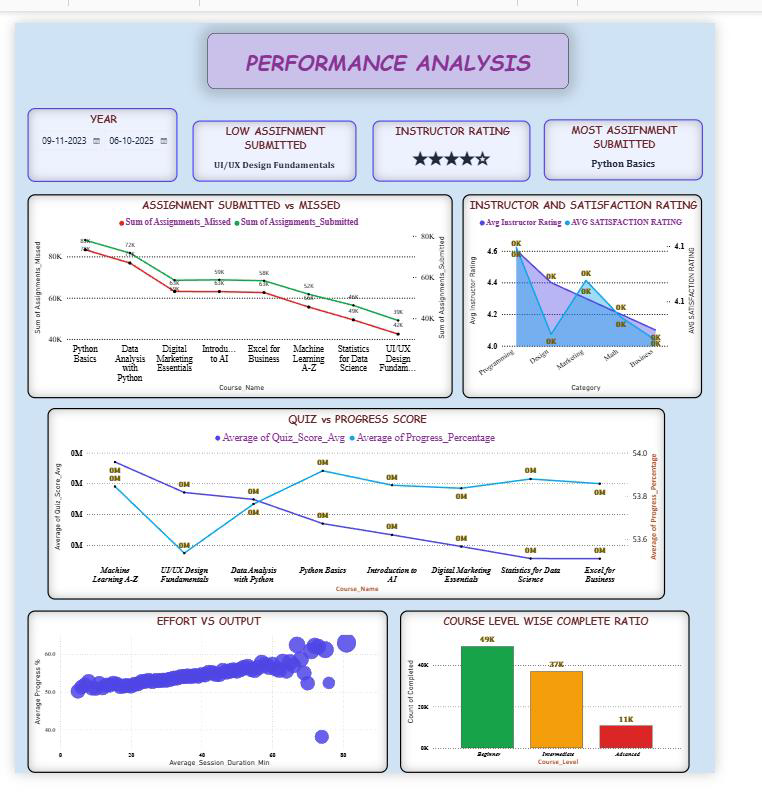

Layout of this report page (visuals, bound fields, positions):
{"tool":"powerbi","page":{"name":"DASHBOARD2","canvas":[1400,1500],"ordinal":1},"visuals":[{"type":"lineChart","title":"QUIZ  vs PROGRESS SCORE","fields":{"Category":["Course_Completion_Prediction.Course_Name"],"Y":["Avg(Course_Completion_Prediction.Quiz_Score_Avg)"],"Y2":["Avg(Course_Completion_Prediction.Progress_Percentage)"]},"box":[64.6,770.8,1235.4,383.3],"z":0},{"type":"clusteredColumnChart","title":"COURSE LEVEL WISE COMPLETE RATIO","fields":{"Category":["Course_Completion_Prediction.Course_Level"],"Y":["CountNonNull(Course_Completion_Prediction.Completed)"]},"box":[768.8,1175,579.2,325],"z":1000},{"type":"areaChart","title":"INSTRUCTOR AND SATISFACTION RATING","fields":{"Y":["Course_Completion_Prediction.Avg Instructor Rating"],"Y2":["Course_Completion_Prediction.AVG SATISFACTION RATING"],"Category":["Course_Completion_Prediction.Category"]},"box":[895.8,341.7,479.2,408.3],"z":2000},{"type":"lineChart","title":"ASSIGNMENT SUBMITTED vs MISSED","fields":{"Category":["Course_Completion_Prediction.Course_Name"],"Y":["Sum(Course_Completion_Prediction.Assignments_Missed)"],"Y2":["Sum(Course_Completion_Prediction.Assignments_Submitted)"]},"box":[25,341.7,850,408.3],"z":3000},{"type":"slicer","title":"YEAR","fields":{"Values":["Course_Completion_Prediction.Enrollment_Date"]},"box":[25,45,300,147.5],"z":4000},{"type":"scatterChart","title":"EFFORT VS OUTPUT","fields":{"X":["Course_Completion_Prediction.Average_Session_Duration_Min"],"Y":["Course_Completion_Prediction.Average Progress %"],"Size":["Avg(Course_Completion_Prediction.Assignments_Submitted)"]},"box":[25,1175,720.8,325],"z":5000},{"type":"card","title":"LOW ASSIFNMENT SUBMITTED","fields":{"Values":["Course_Completion_Prediction.Low Course - Submitted"]},"box":[356,196,328,122],"z":6000},{"type":"card","title":"MOST ASSIFNMENT SUBMITTED","fields":{"Values":["Course_Completion_Prediction.Top Course - Submitted"]},"box":[1058,192,318,122],"z":7000},{"type":"card","title":"INSTRUCTOR RATING","fields":{"Values":["Course_Completion_Prediction.Instructor Star Rating"]},"box":[716,194,316,122],"z":8000},{"type":"textbox","box":[384,20,722,112],"z":9000},{"type":"slicer","title":"COURSE NAME","fields":{"Values":["Course_Completion_Prediction.Course_Name"]},"box":[25,210,300,107.5],"z":10000}]}

Visuals, with their boxes in screenshot pixels (x1, y1, x2, y2), scaled from the page's 1400x1500 canvas onto the 762x806 screenshot:
"QUIZ  vs PROGRESS SCORE" lineChart: <region>35, 414, 708, 620</region>
"COURSE LEVEL WISE COMPLETE RATIO" clusteredColumnChart: <region>418, 631, 734, 805</region>
"INSTRUCTOR AND SATISFACTION RATING" areaChart: <region>488, 184, 748, 403</region>
"ASSIGNMENT SUBMITTED vs MISSED" lineChart: <region>14, 184, 476, 403</region>
"YEAR" slicer: <region>14, 24, 177, 103</region>
"EFFORT VS OUTPUT" scatterChart: <region>14, 631, 406, 805</region>
"LOW ASSIFNMENT SUBMITTED" card: <region>194, 105, 372, 171</region>
"MOST ASSIFNMENT SUBMITTED" card: <region>576, 103, 749, 169</region>
"INSTRUCTOR RATING" card: <region>390, 104, 562, 170</region>
textbox: <region>209, 11, 602, 71</region>
"COURSE NAME" slicer: <region>14, 113, 177, 171</region>
